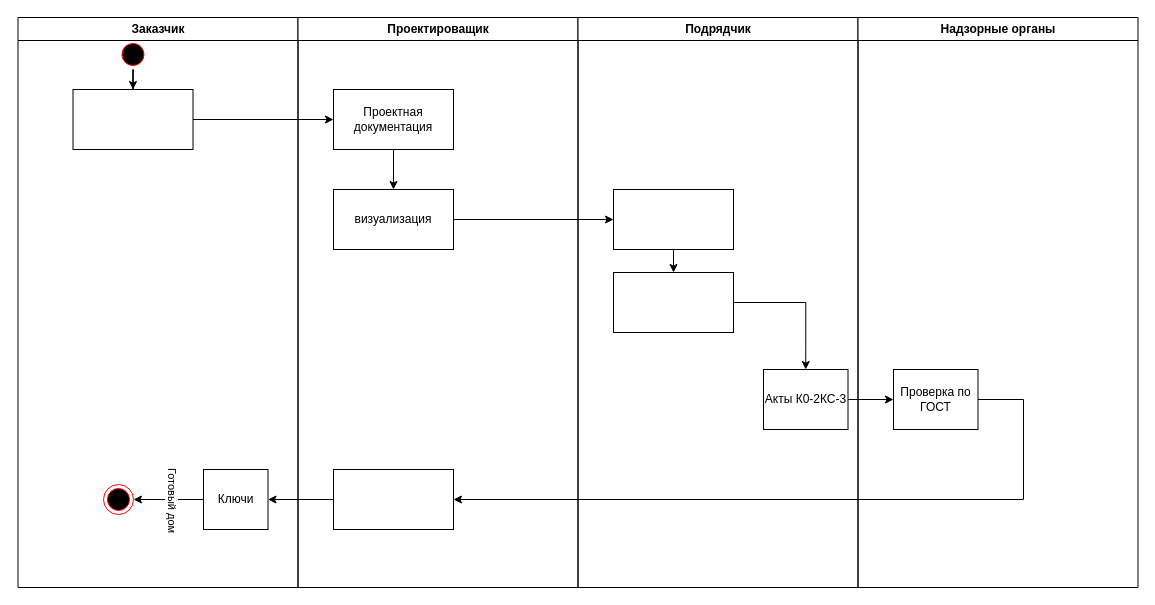
Some shapes in this 1155 by 605 pixel diagram are drawn without their labels. The shapes that lost their labels are listed below. From the top down, each one's centre as x and y in pixels, then its label:
At pixel 132 119: "Техническое задание".
At pixel 673 219: "Подготовка участка".
At pixel 673 302: "Строительство".
At pixel 393 499: "Гарантия".
